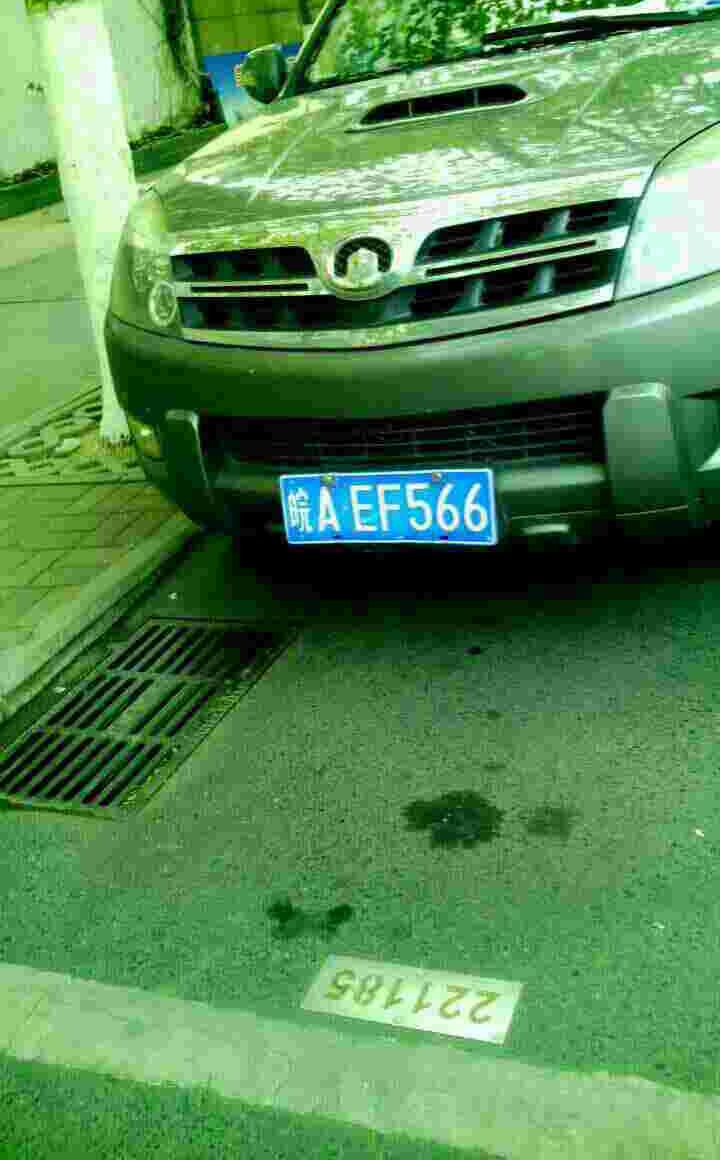car: (289, 470, 501, 559)
